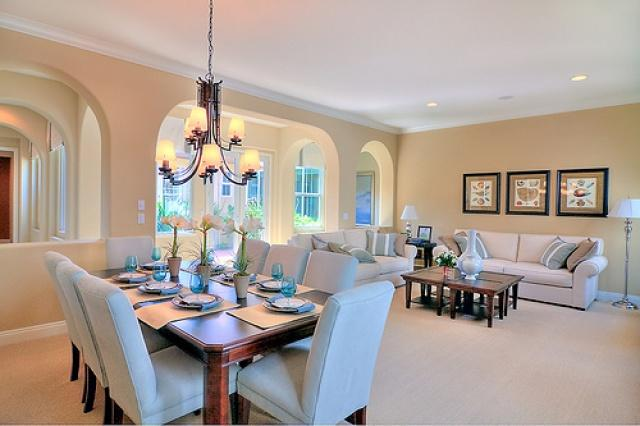Kursi: (236, 279, 394, 425), (76, 274, 203, 425)
Meja: (78, 258, 335, 371), (401, 263, 524, 327)
